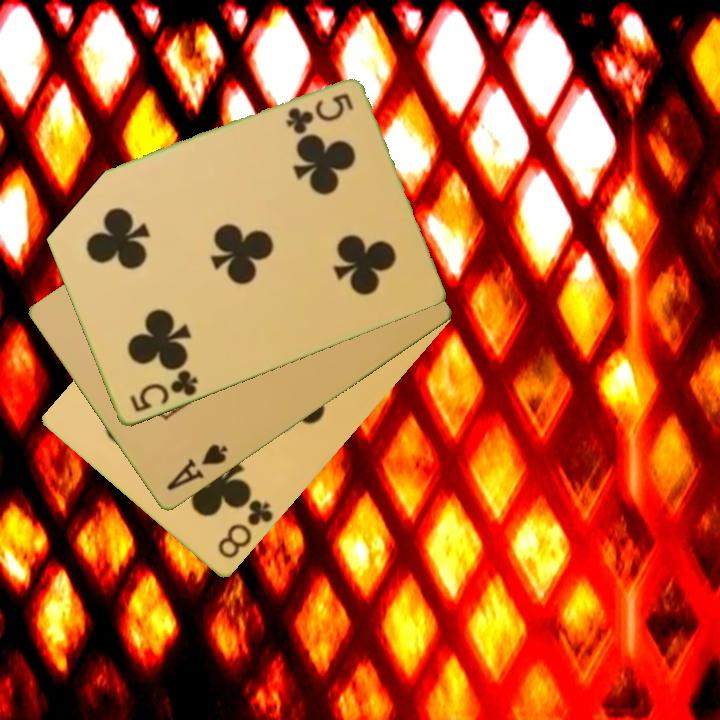5c: (126, 366, 201, 416), (282, 90, 356, 136)
8c: (214, 496, 277, 563)
As: (163, 441, 231, 494)
